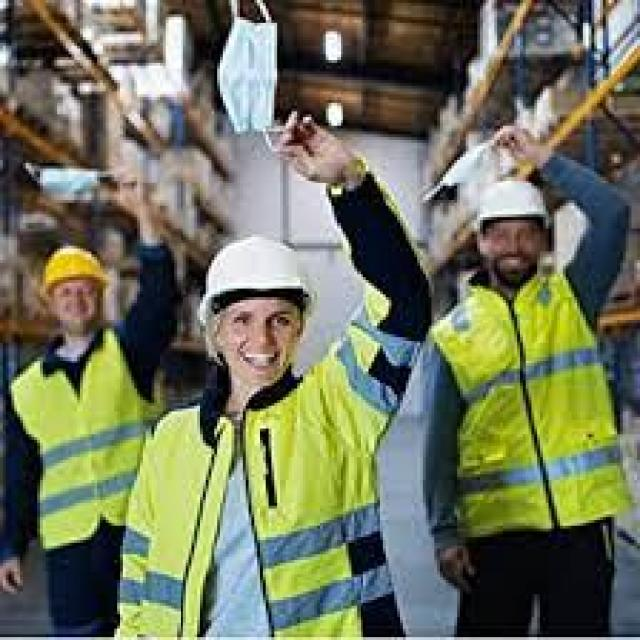Reflective-Jacket: (126, 363, 394, 637), (432, 271, 628, 543), (9, 329, 160, 557)
Safety-Helmet: (191, 229, 323, 317), (472, 172, 554, 232), (40, 240, 114, 294)
